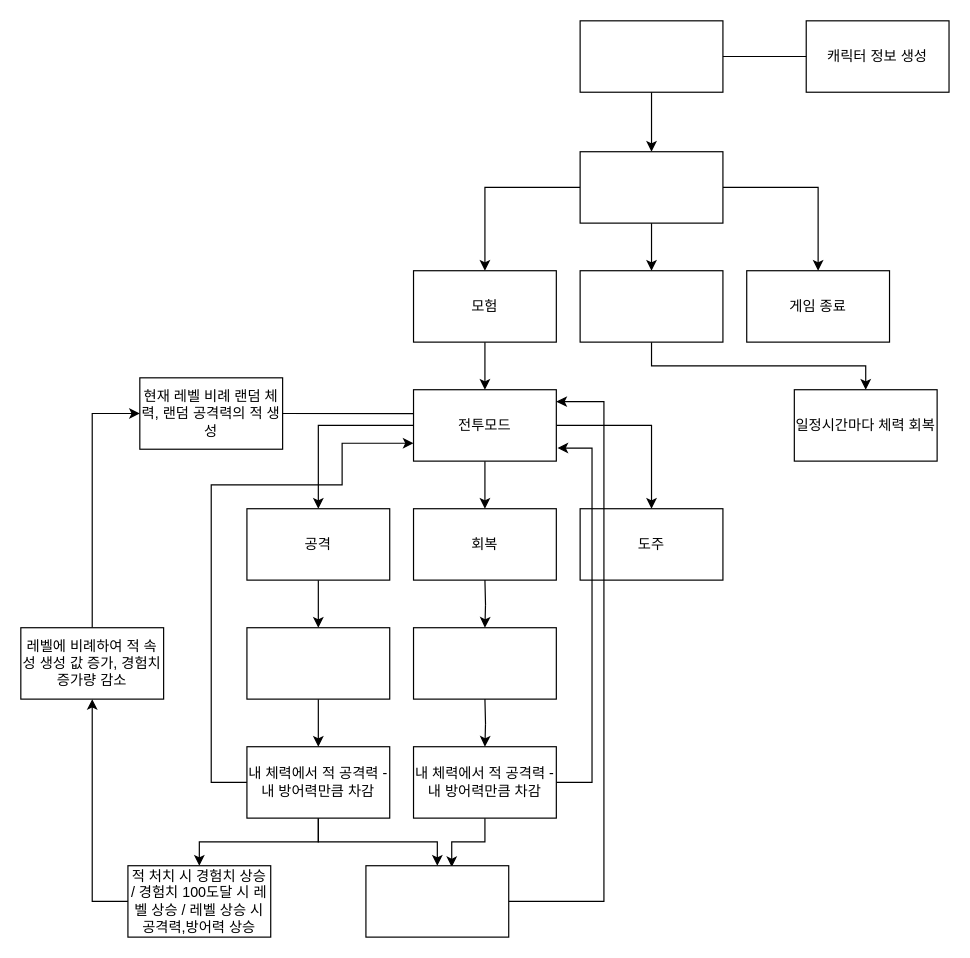
Image size: 970x958. Some labels were removed from this diagram. The centre of each missing label's shape, as x and y in pixels:
게임 시작하기 닉네임 입력: (x=651, y=56)
내 체력을 일정량 회복: (x=484, y=663)
내 체력이 0도달 시 사망: (x=437, y=901)
일반모드: (x=651, y=187)
적 체력에서 내 공격력만큼 차감: (x=318, y=663)
휴식: (x=651, y=306)
